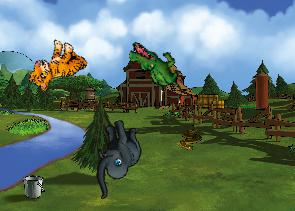crocodile: (122, 40, 189, 91)
elephant: (78, 115, 153, 199)
tiger: (24, 33, 91, 102)
